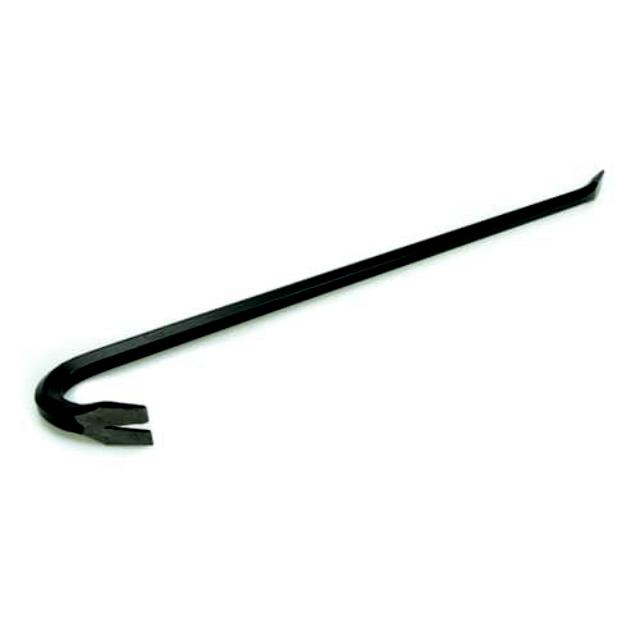crow bar: (34, 174, 606, 449)
